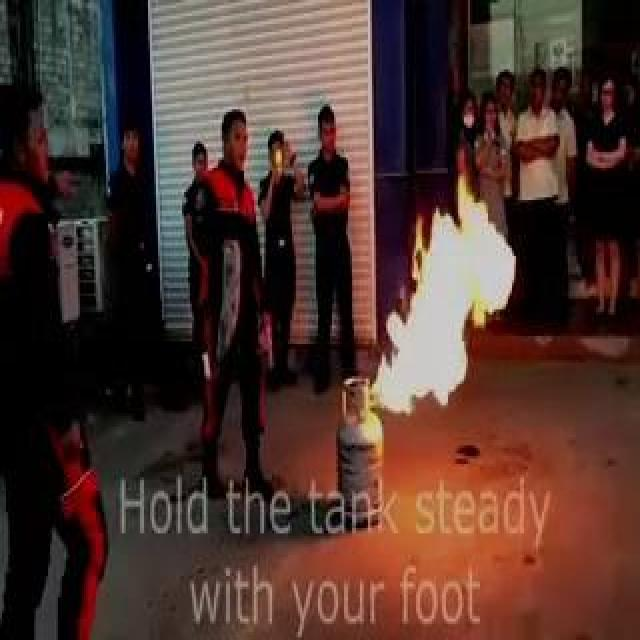Fire: (361, 101, 505, 416)
